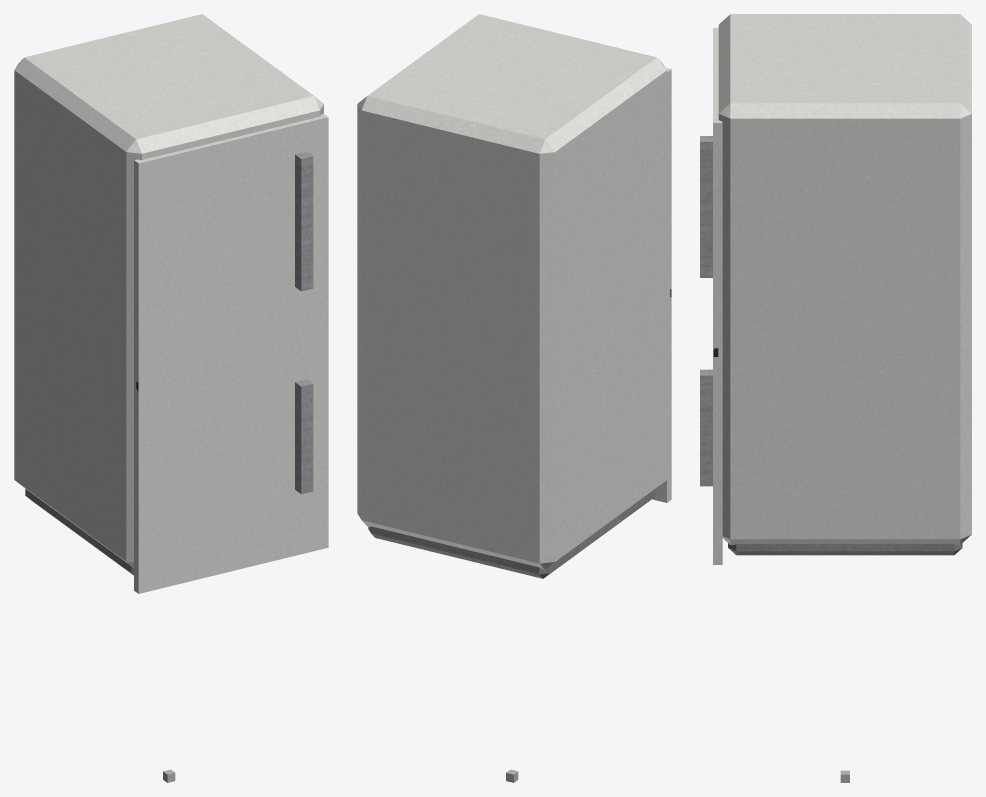
Rendered from rv_furn_fridge.gltf.
3 renders of one model, left to right at view 1: azimuth 30°, elevation 25°; view 2: azimuth 150°, elevation 25°; view 3: azimuth 270°, elevation 25°, orthographic. The views are drawn at different scales.
Visible parts, largest first — view 1: RV_Furn_Fridge; view 2: RV_Furn_Fridge; view 3: RV_Furn_Fridge.
Part boxes in pixels (box(x1,y1,x2,y2)): RV_Furn_Fridge: box(14, 14, 328, 782); RV_Furn_Fridge: box(357, 14, 671, 782); RV_Furn_Fridge: box(700, 14, 971, 782).
Bounding box in the file's own units: 0.5 × 1.7 × 0.58.
Materials: 5 (4 with a texture image).
